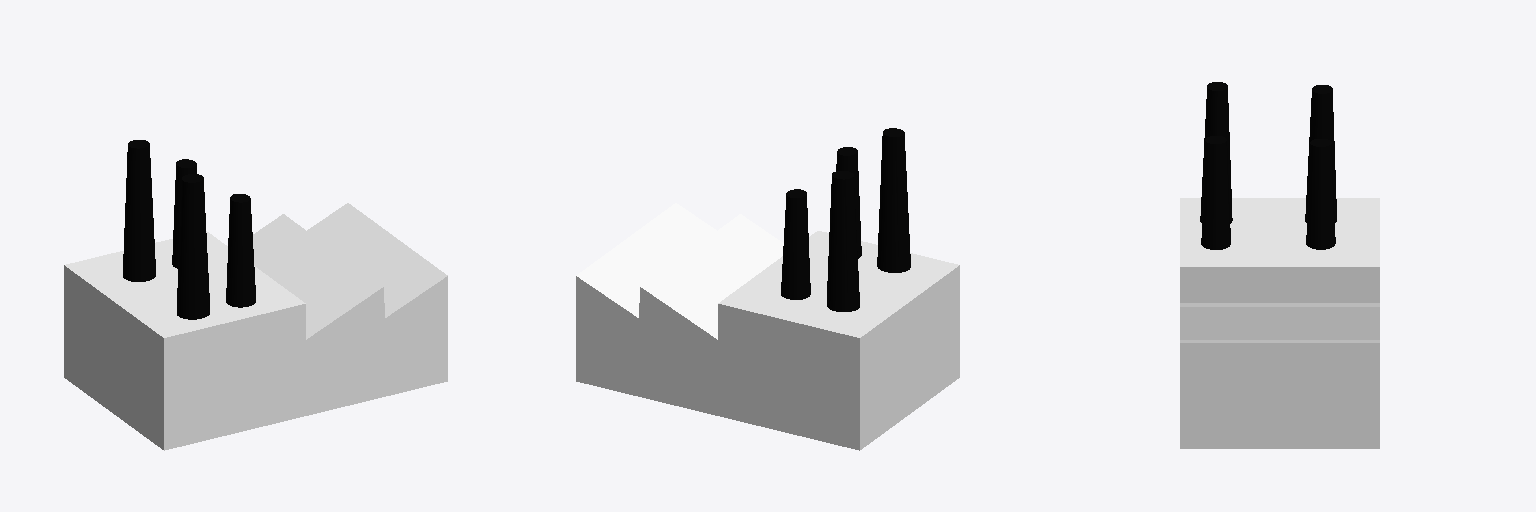
Rendered from usine.obj.
The picture shows the model from 3 angles: view 1: azimuth 30°, elevation 25°; view 2: azimuth 150°, elevation 25°; view 3: azimuth 270°, elevation 25°; orthographic projection.
Visible parts, largest first — view 1: Cube, Cylinder, Cylinder.003, Cylinder.001, Cylinder.002; view 2: Cube, Cylinder, Cylinder.003, Cylinder.002, Cylinder.001; view 3: Cube, Cylinder.001, Cylinder.002, Cylinder, Cylinder.003.
Boxes of the visible parts, x1,y1,x2,y2 form: Cube: [64, 203, 447, 450]; Cylinder: [177, 174, 209, 319]; Cylinder.003: [123, 140, 155, 281]; Cylinder.001: [226, 194, 255, 307]; Cylinder.002: [172, 159, 196, 268]; Cube: [576, 203, 959, 450]; Cylinder: [877, 128, 910, 272]; Cylinder.003: [827, 171, 859, 311]; Cylinder.002: [781, 189, 810, 299]; Cylinder.001: [836, 147, 861, 258]; Cube: [1180, 198, 1379, 448]; Cylinder.001: [1201, 136, 1230, 249]; Cylinder.002: [1306, 139, 1335, 249]; Cylinder: [1200, 82, 1232, 223]; Cylinder.003: [1305, 85, 1336, 222].
Size of the model in its own units: 9.16 by 7.61 by 5.58.